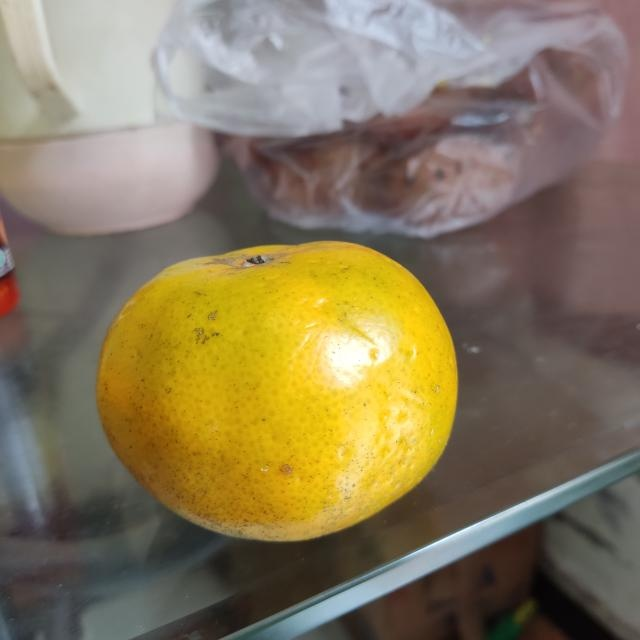agrume: (92, 239, 460, 543)
